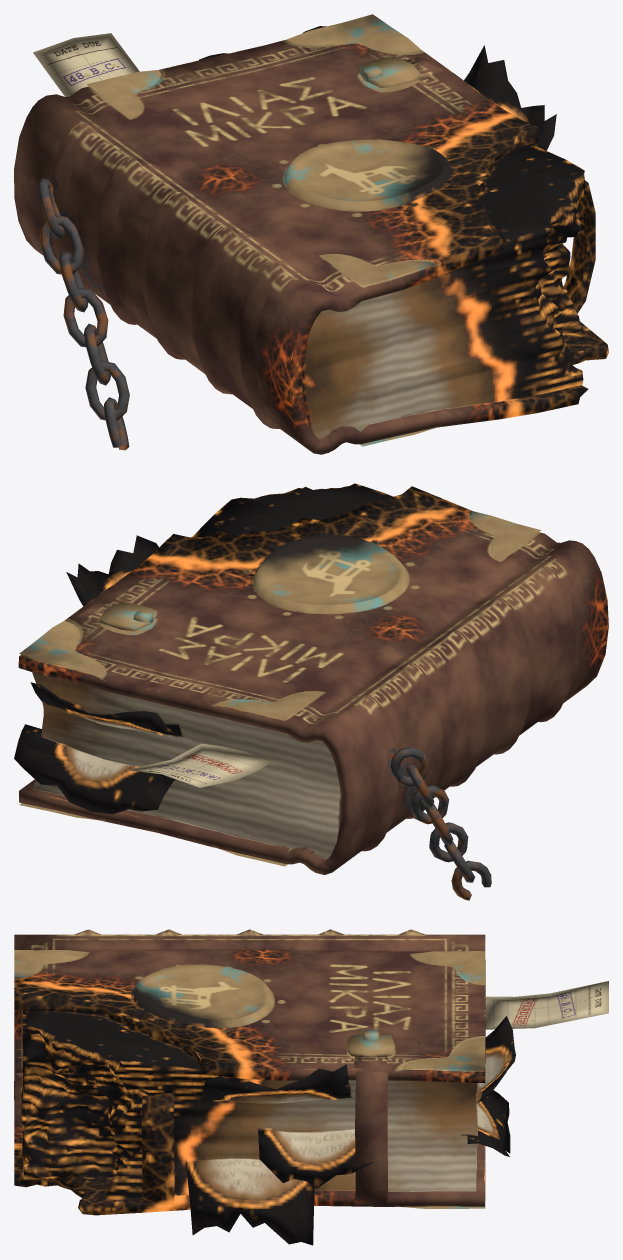
Rendered from last_book.glb.
The picture shows the model from 3 angles, top to bottom: view 1: azimuth 30°, elevation 25°; view 2: azimuth 150°, elevation 25°; view 3: azimuth 270°, elevation 25°; orthographic projection. The views are drawn at different scales.
Visible parts, largest first — view 1: LastBook, LastBookChain, LastBookSlip; view 2: LastBook, LastBookChain, LastBookSlip; view 3: LastBook, LastBookSlip.
Part boxes in pixels (<box>): LastBook: <box>14,14,608,454</box>; LastBookChain: <box>37,177,129,450</box>; LastBookSlip: <box>33,33,139,96</box>; LastBook: <box>14,483,608,874</box>; LastBookChain: <box>390,747,491,900</box>; LastBookSlip: <box>128,743,273,787</box>; LastBook: <box>14,929,515,1245</box>; LastBookSlip: <box>485,981,608,1029</box>.
Bounding box in the file's own units: 0.5657 × 0.362 × 0.8086.
2 materials, 2 textured.
